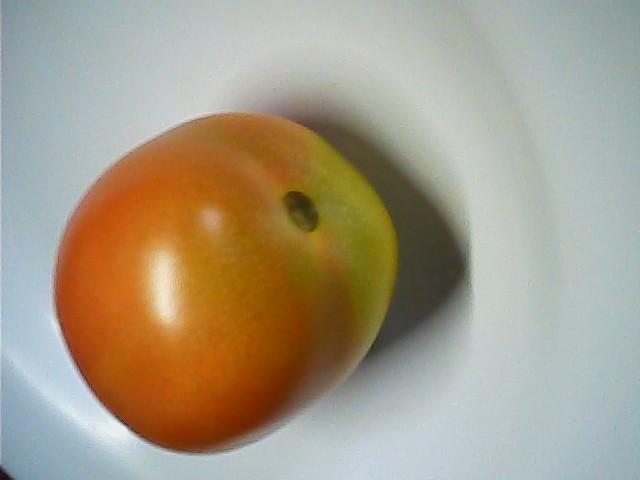verde: (51, 110, 403, 457)
